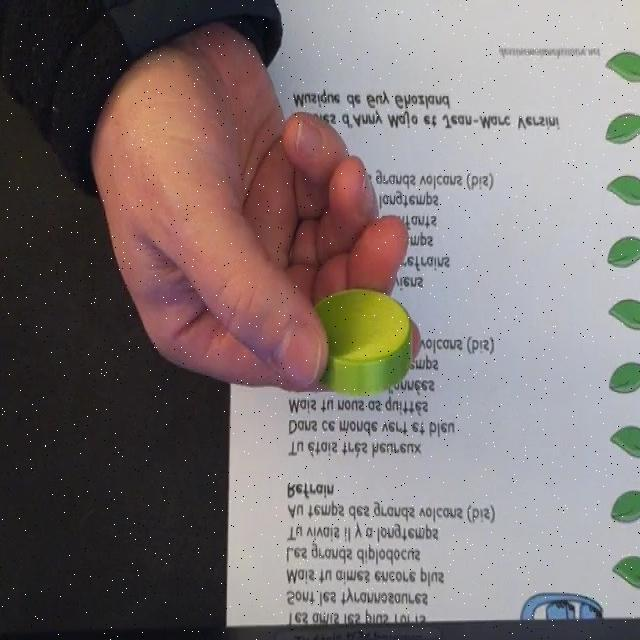round: (302, 287, 414, 396)
